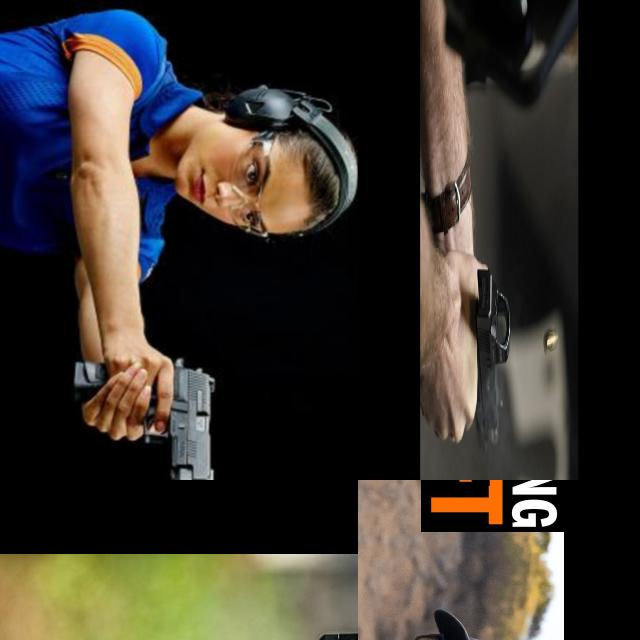handgun: (69, 356, 218, 480), (457, 263, 512, 462), (358, 480, 434, 537)
